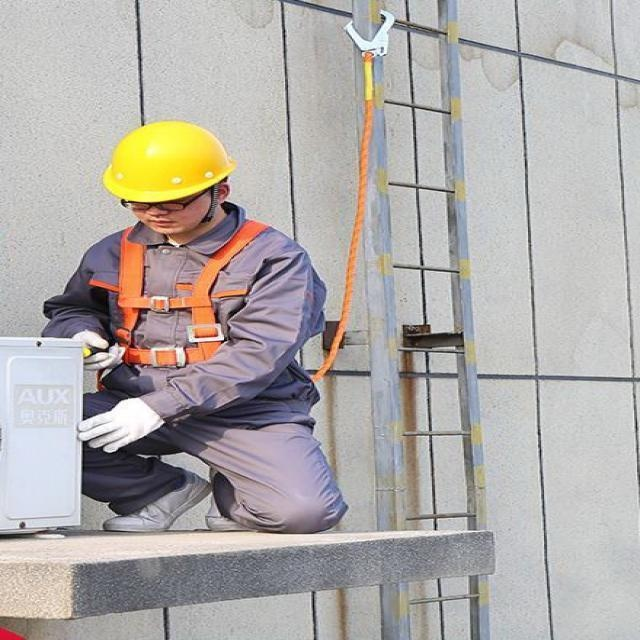Arnes_seguridad: (102, 214, 279, 374)
